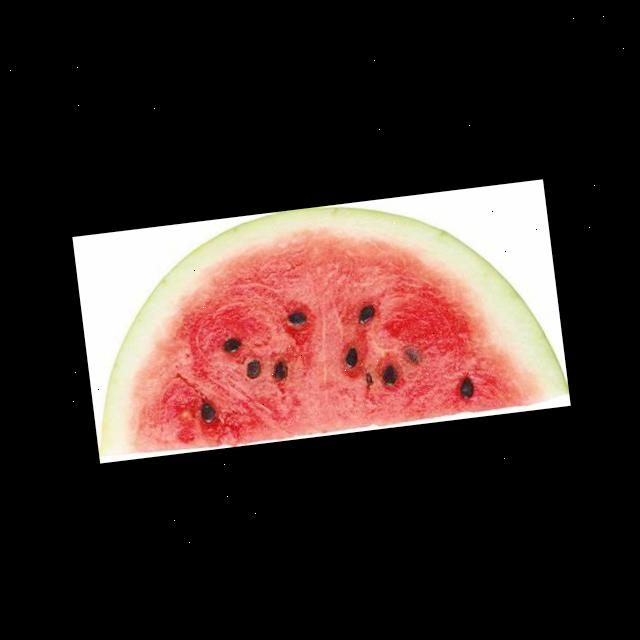watermelon: (71, 178, 568, 460)
